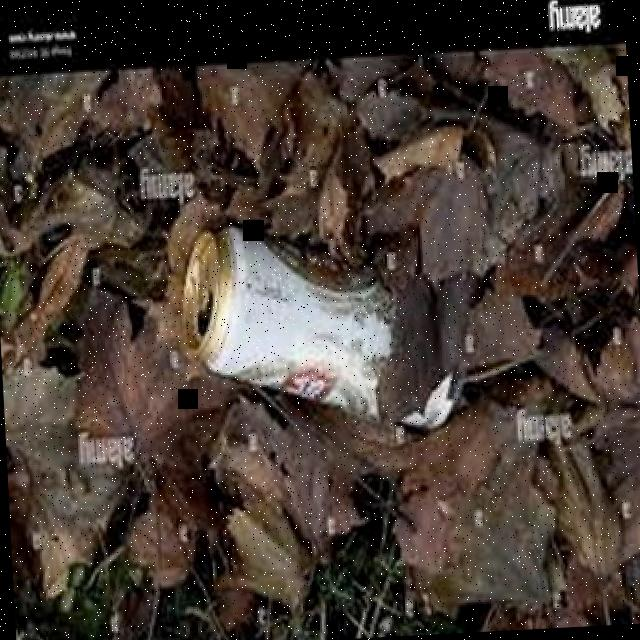can: (176, 210, 470, 442)
